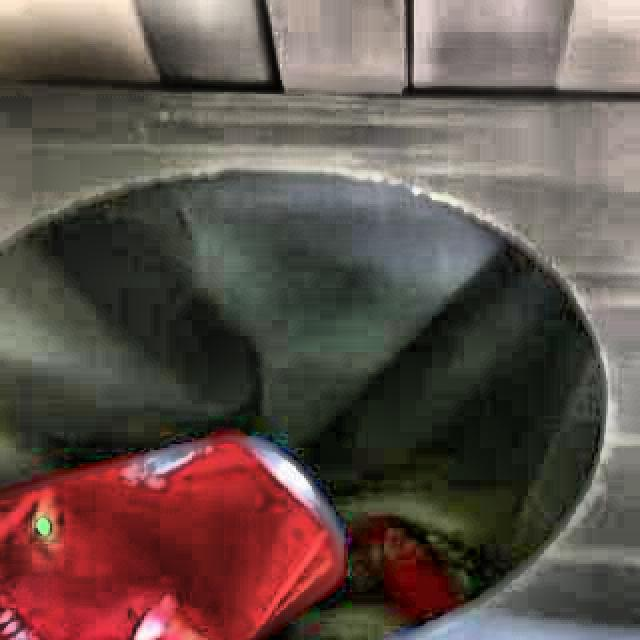metal: (0, 438, 344, 640)
